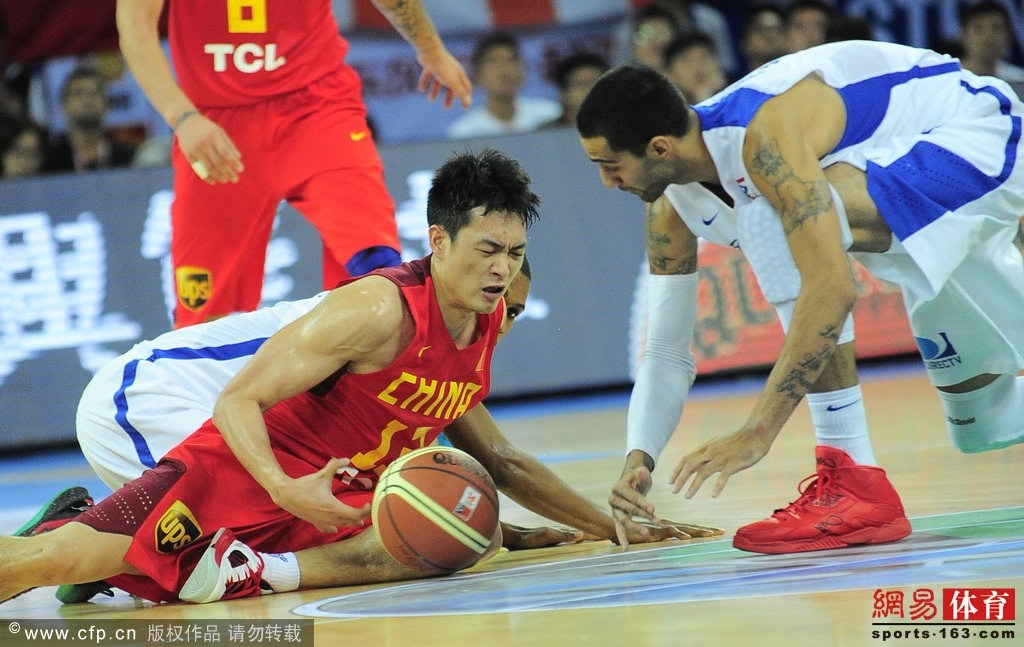falling: (7, 133, 671, 597)
